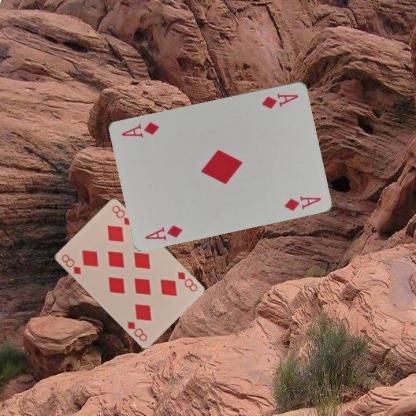8d: (58, 251, 82, 276), (175, 269, 198, 293)
Ad: (259, 90, 300, 110), (142, 222, 184, 241)
